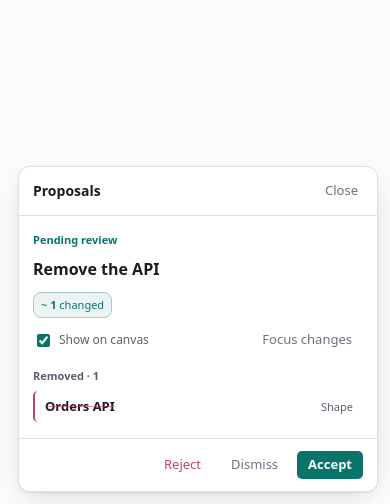
Scenario: ProposalPanel accept › preserves a new open point that a pending removal would cascade into during acceptance
Click the button "Accept" at (330, 465), box top-left (297, 451), bottom-right (363, 479)
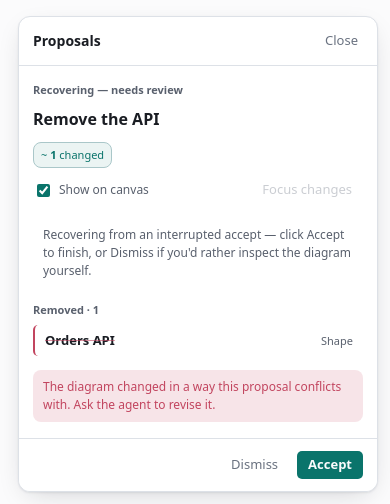
Now the message shows "conflicts with", box top-left (43, 378), bottom-right (341, 413)
